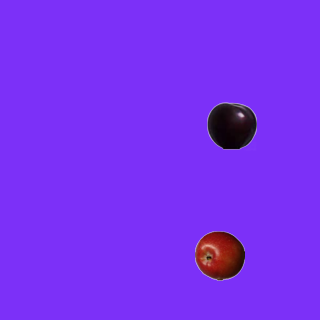Apple Braeburn: (194, 230, 244, 280)
Cherry Wax Black: (206, 100, 256, 150)
